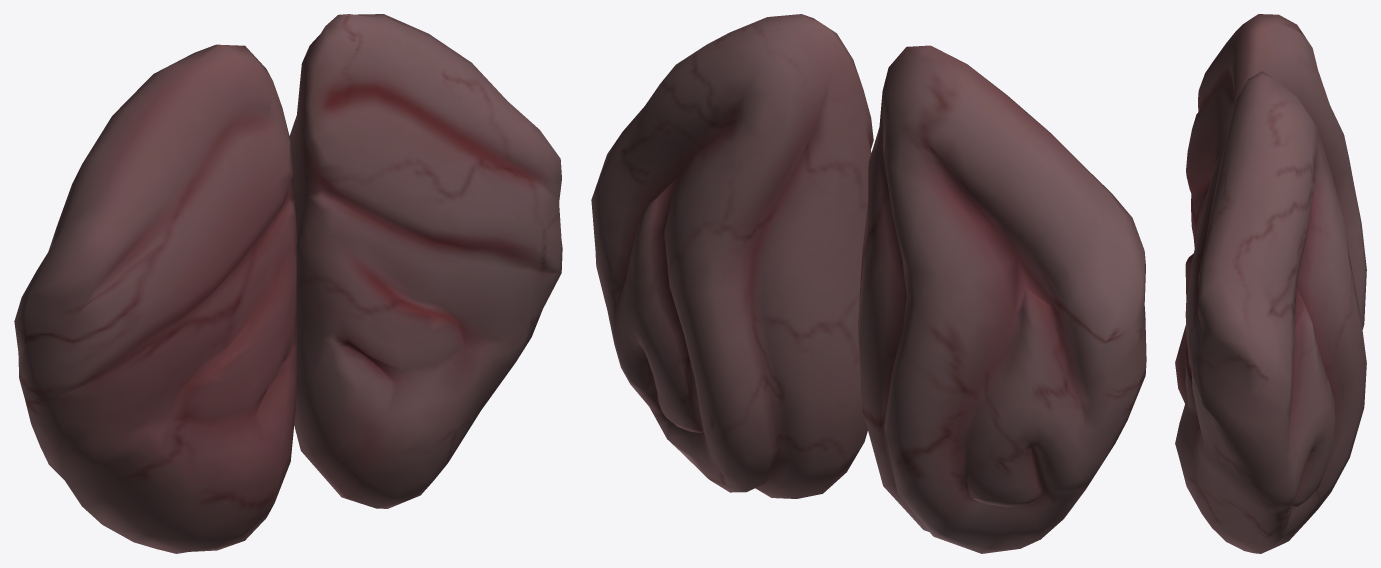
The model's file is Occipital_Lob.gltf.
3 views of the same model, side by side, from view 1: azimuth 30°, elevation 25°; view 2: azimuth 150°, elevation 25°; view 3: azimuth 270°, elevation 25° (orthographic). The views are drawn at different scales.
Visible parts, largest first — view 1: Occipital_Lob_Right, Occipital_Lob_Left; view 2: Occipital_Lob_Right, Occipital_Lob_Left; view 3: Occipital_Lob_Left, Occipital_Lob_Right.
Boxes of the visible parts, x1,y1,x2,y2 form: Occipital_Lob_Right: (14, 44, 296, 553); Occipital_Lob_Left: (289, 14, 562, 508); Occipital_Lob_Right: (858, 45, 1146, 553); Occipital_Lob_Left: (591, 14, 873, 498); Occipital_Lob_Left: (1175, 71, 1366, 553); Occipital_Lob_Right: (1175, 14, 1366, 403).
Size of the model in its own units: 8.52 by 7.45 by 2.87.
1 material, 1 textured.
